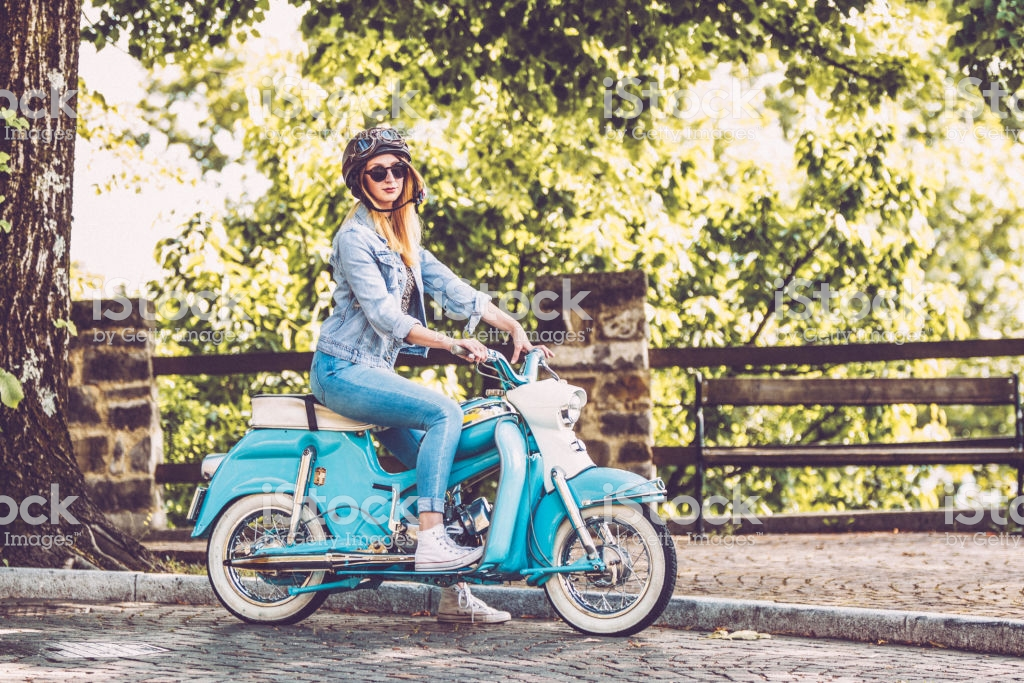helmet: (336, 124, 425, 179)
